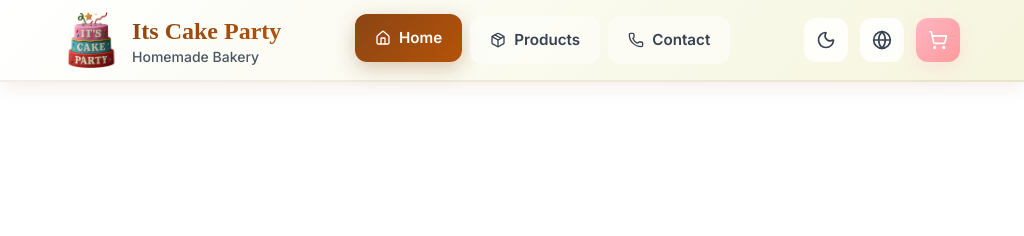
it: Navbar Component › closes language dropdown when backdrop is clicked
Click the button named "Change language". click: (882, 40)
box: x1=860 y1=18 x2=904 y2=62
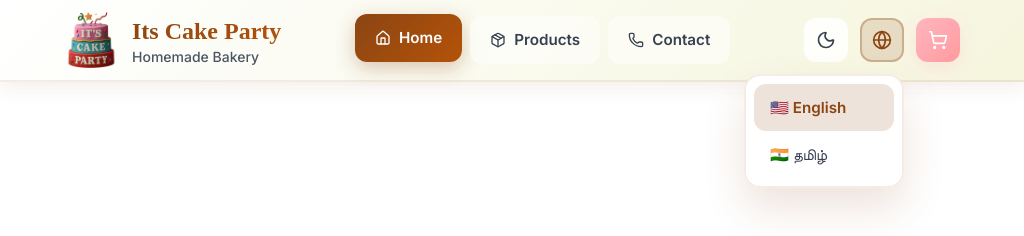
Expected: the button "🇺🇸 English" is shown, x1=754 y1=84 x2=894 y2=131
Click the element with class "language-backdrop". click: (512, 40)
box: x1=0 y1=0 x2=1023 y2=80
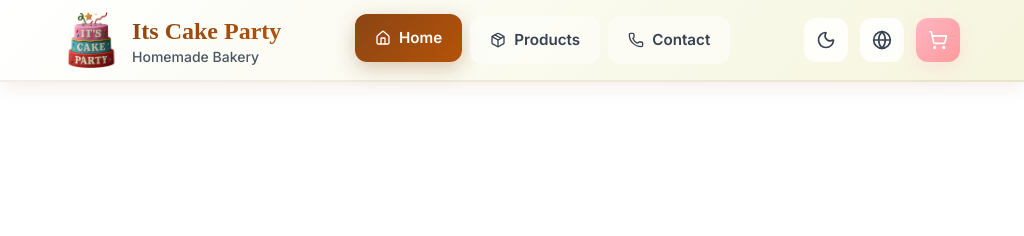
Expected: the button "🇺🇸 English" is gone
